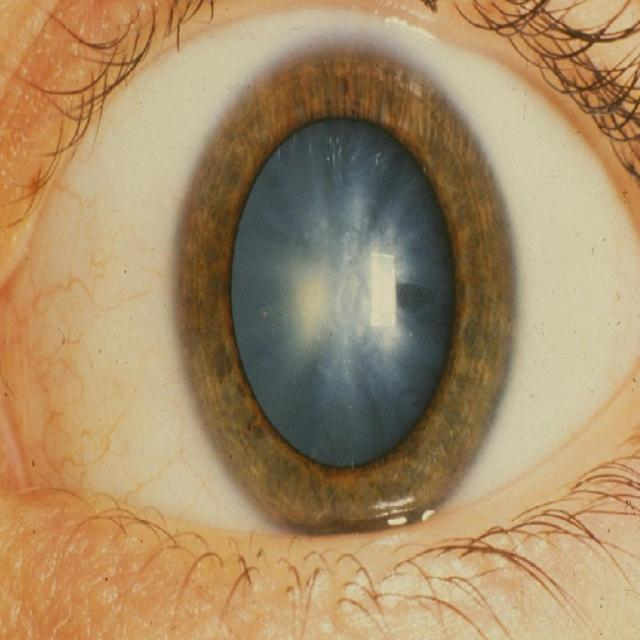Cataract: (159, 42, 524, 564)
